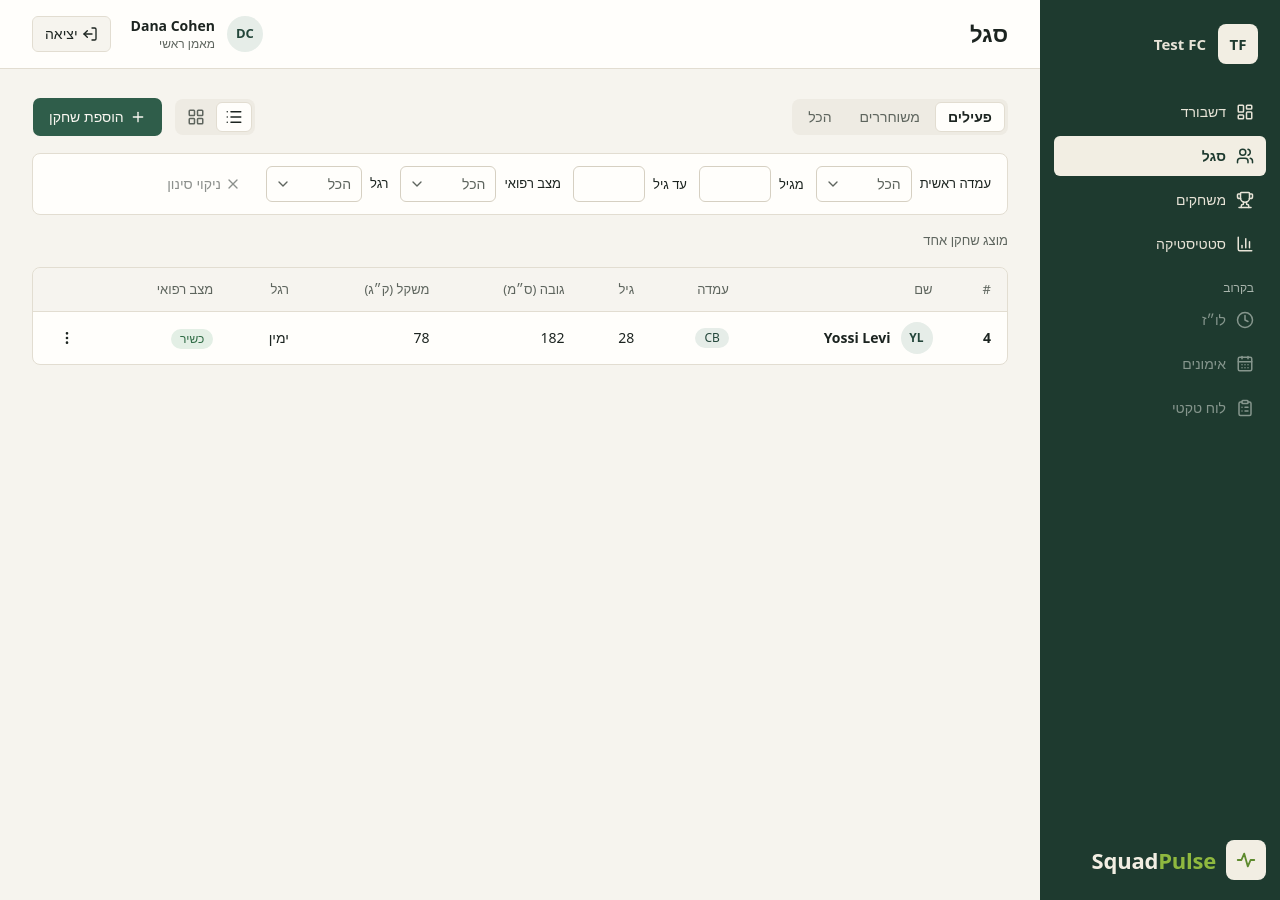
Test case: the list request › carries a medical status, under the API's name, in the page URL too
Expected: the heading "סגל" is shown, 970,20 -> 1008,48
Click the dropdown named "מצב רפואי": (448, 184) 400,166 -> 496,202
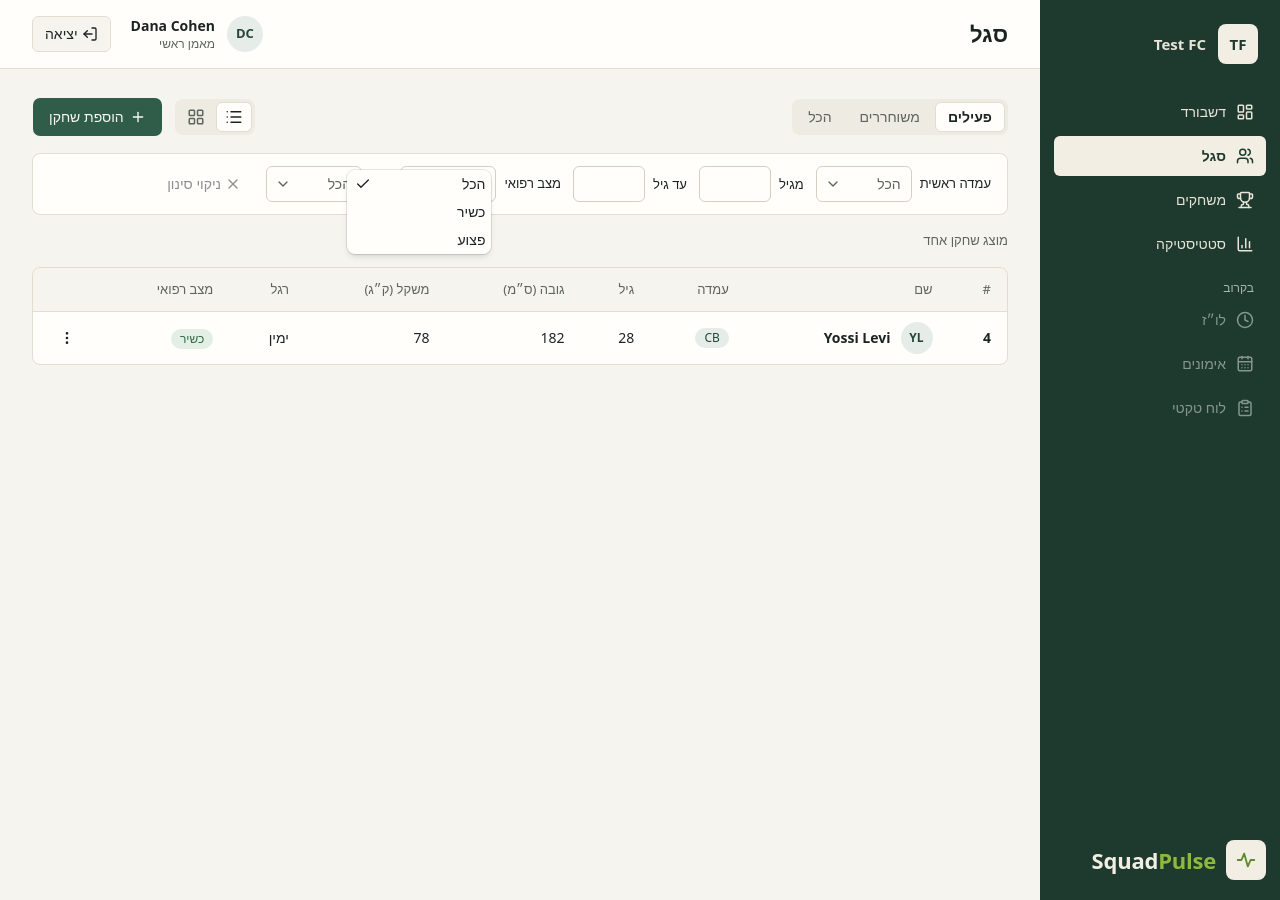
Click the option "פצוע": (472, 240) 458,230 -> 486,249
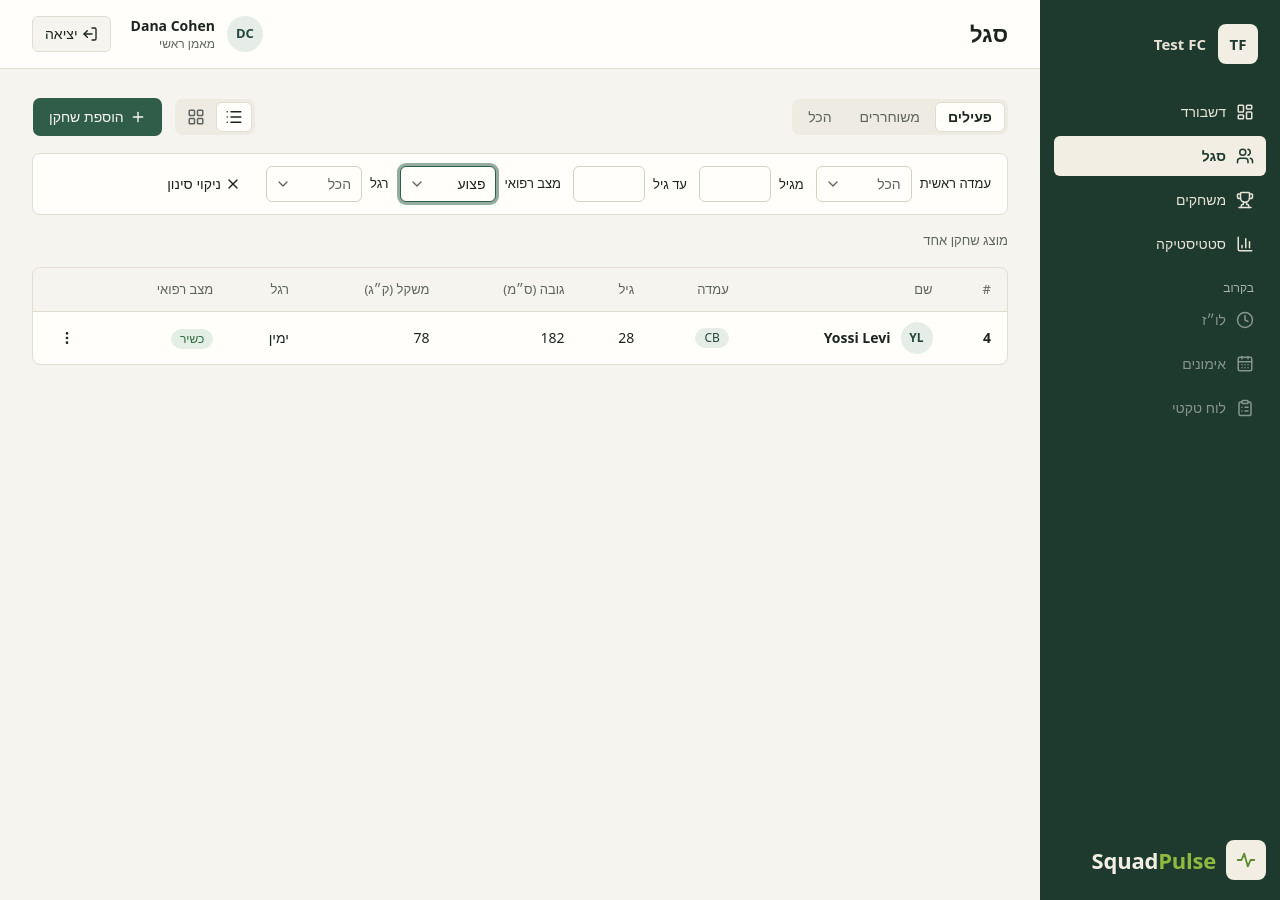
Expected: the list "הכל כשיר פצוע" is gone
